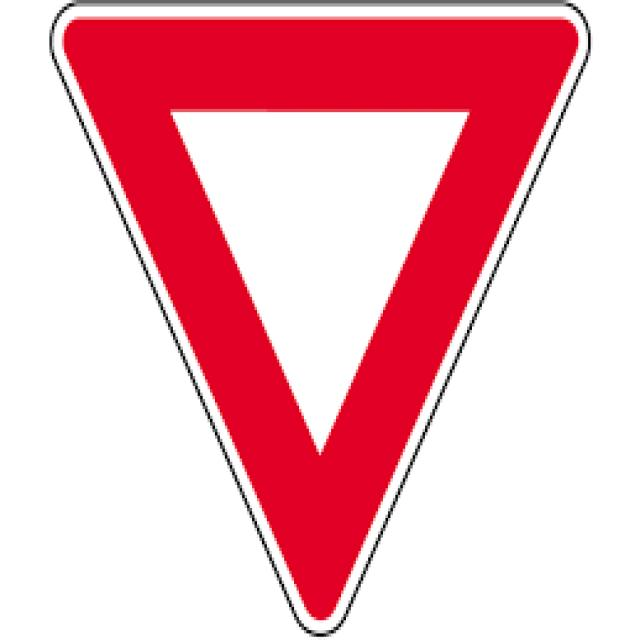Ceder-le-Passage: (48, 0, 599, 633)
